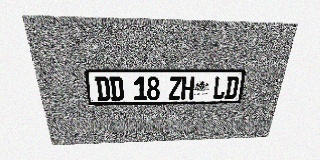1: (133, 76, 147, 100)
8: (147, 76, 160, 100)
D: (95, 77, 111, 101), (109, 76, 124, 101), (224, 76, 239, 99)
H: (181, 76, 195, 100)
L: (212, 76, 227, 99)
Z: (168, 76, 182, 100)
